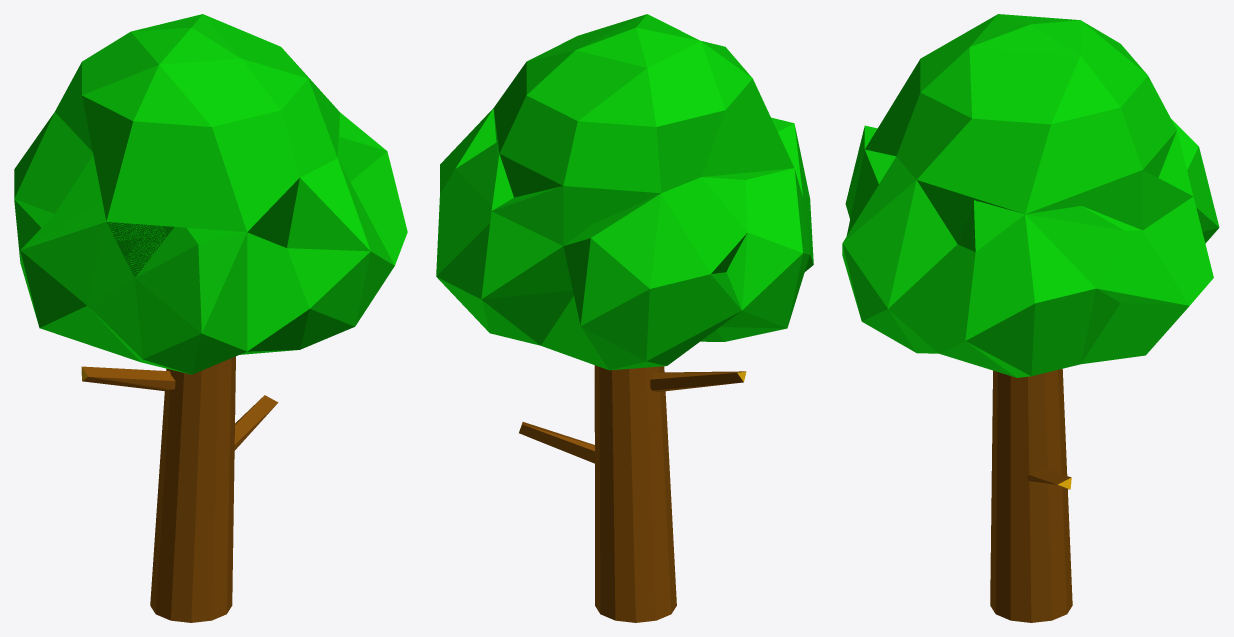
File: tree.fbx
3 renders of one model, left to right at view 1: azimuth 30°, elevation 25°; view 2: azimuth 150°, elevation 25°; view 3: azimuth 270°, elevation 25°, orthographic.
Visible parts, largest first — view 1: tree; view 2: tree; view 3: tree.
Boxes of the visible parts, bbox=[...] form: tree: bbox=[14, 14, 407, 622]; tree: bbox=[436, 14, 813, 622]; tree: bbox=[842, 14, 1219, 622].
Size of the model in its own units: 397 by 604 by 355.
